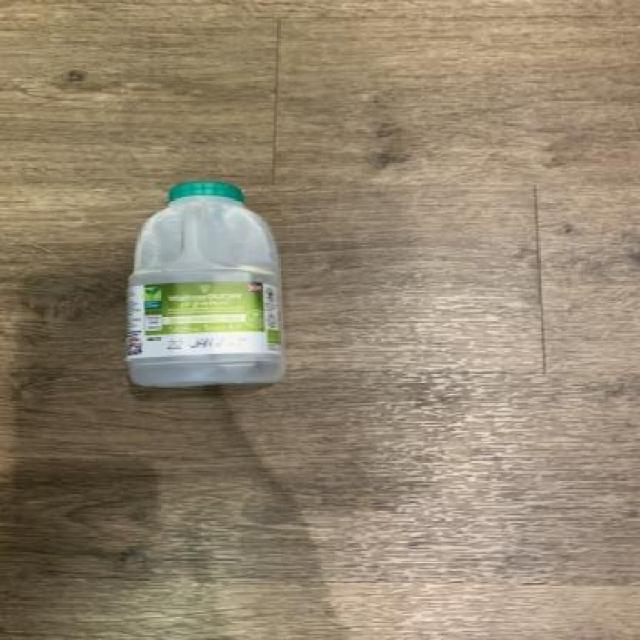trash: (121, 174, 292, 394)
